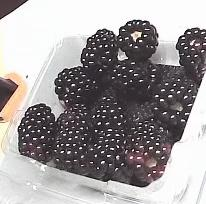berry: (124, 120, 174, 185), (52, 104, 89, 174), (86, 129, 132, 183), (108, 58, 164, 102), (152, 78, 196, 131), (88, 88, 130, 141), (18, 103, 55, 162), (81, 29, 117, 84), (55, 66, 98, 106), (117, 20, 157, 61), (176, 28, 205, 84)
